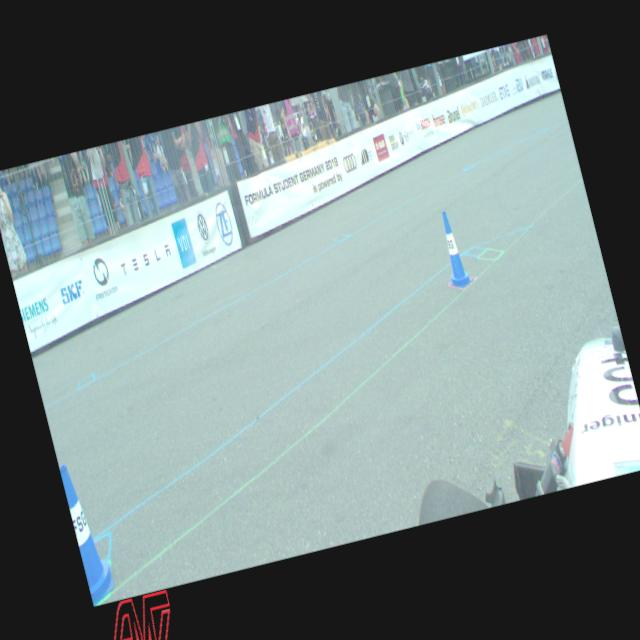blue_cone: (58, 460, 118, 606), (432, 208, 474, 290)
